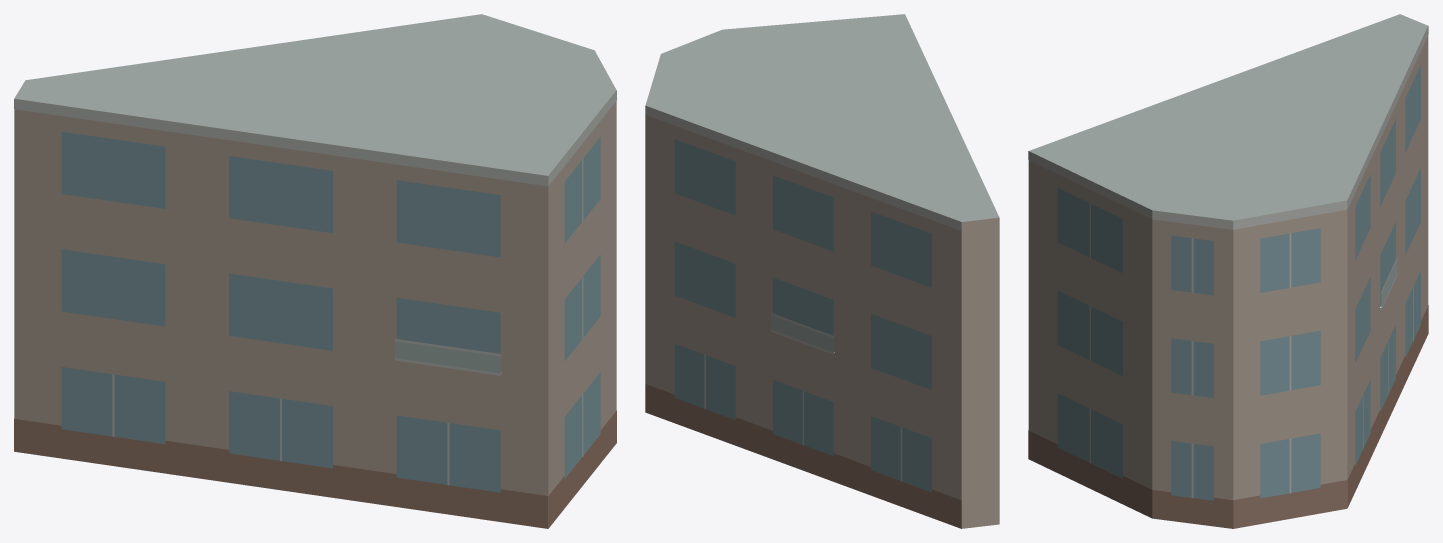
Rendered from survey-upis-32491054.glb.
The picture shows the model from 3 angles, left to right: view 1: azimuth 30°, elevation 25°; view 2: azimuth 150°, elevation 25°; view 3: azimuth 270°, elevation 25°; orthographic projection. The views are drawn at different scales.
Visible parts, largest first — view 1: survey-upis-32491054.tmp; view 2: survey-upis-32491054.tmp; view 3: survey-upis-32491054.tmp.
Part boxes in pixels (box(x1,y1,x2,y2)): survey-upis-32491054.tmp: box(14, 14, 616, 528); survey-upis-32491054.tmp: box(645, 14, 999, 528); survey-upis-32491054.tmp: box(1028, 14, 1428, 528).
Size of the model in its own units: 11.85 by 8.23 by 9.68.
